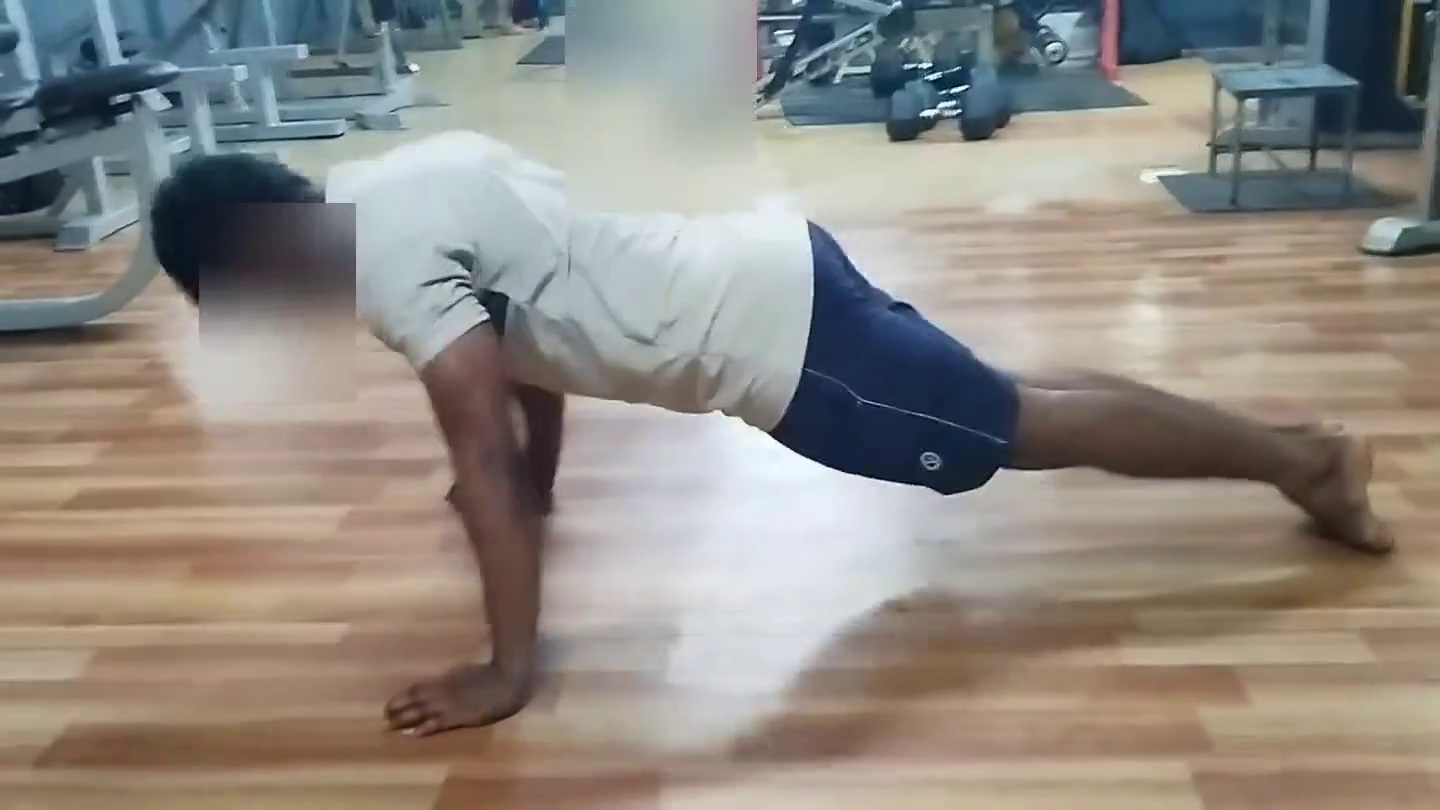push_up: (129, 90, 1440, 810)
